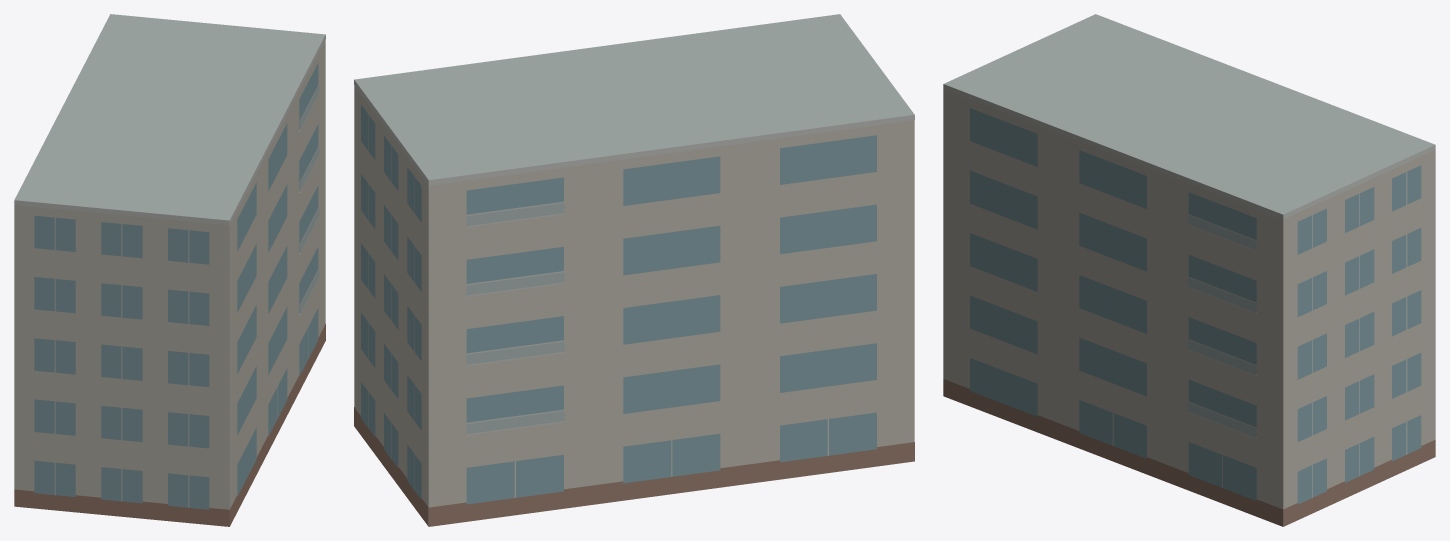
Rendered from survey-upis-32545325.glb.
The picture shows the model from 3 angles, left to right: view 1: azimuth 30°, elevation 25°; view 2: azimuth 150°, elevation 25°; view 3: azimuth 270°, elevation 25°; orthographic projection. The views are drawn at different scales.
Parts seen in each view (by area): view 1: survey-upis-32545325.tmp; view 2: survey-upis-32545325.tmp; view 3: survey-upis-32545325.tmp.
Boxes of the visible parts, <box> form: survey-upis-32545325.tmp: <box>14,14,325,526</box>; survey-upis-32545325.tmp: <box>354,14,914,526</box>; survey-upis-32545325.tmp: <box>943,14,1435,526</box>.
Bounding box in the file's own units: 21.37 × 15.5 × 22.15.
